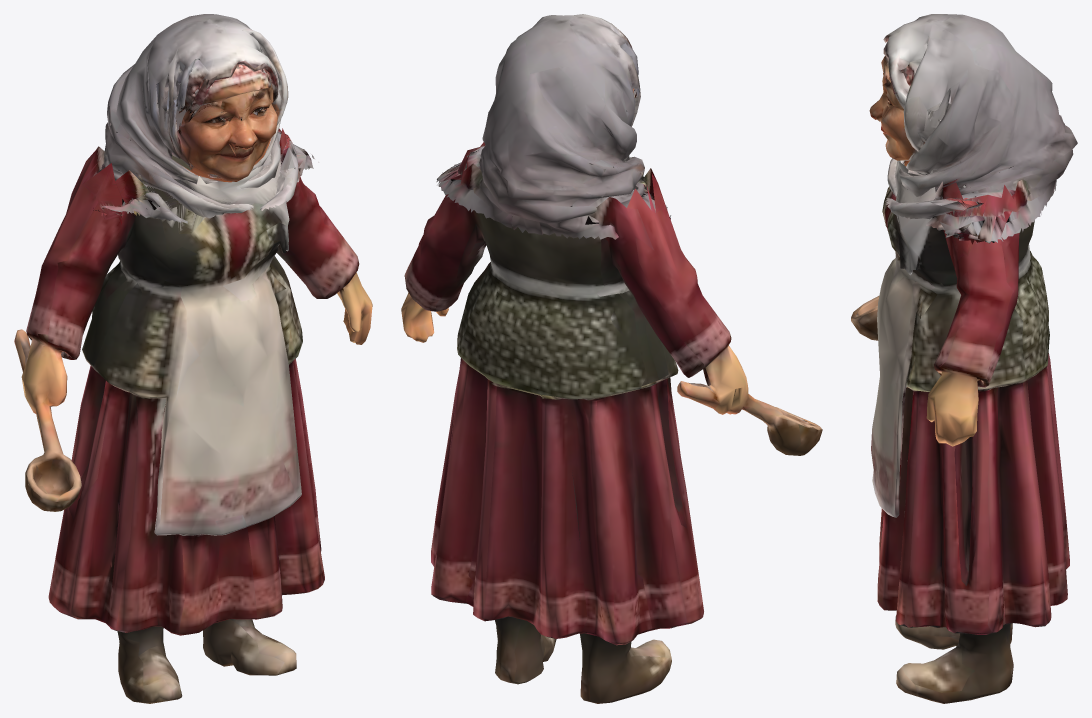
Rendered from cook.gen.glb.
3 views of the same model, side by side, from view 1: azimuth 30°, elevation 25°; view 2: azimuth 150°, elevation 25°; view 3: azimuth 270°, elevation 25° (orthographic).
Visible parts, largest first — view 1: cook.raw; view 2: cook.raw; view 3: cook.raw.
Part boxes in pixels (x1,y1,x2,y2): cook.raw: (14,14,372,703); cook.raw: (401,14,822,703); cook.raw: (851,14,1077,703).
Size of the model in its own units: 1.06 by 1.75 by 0.5513.
Materials: 1 (1 with a texture image).
